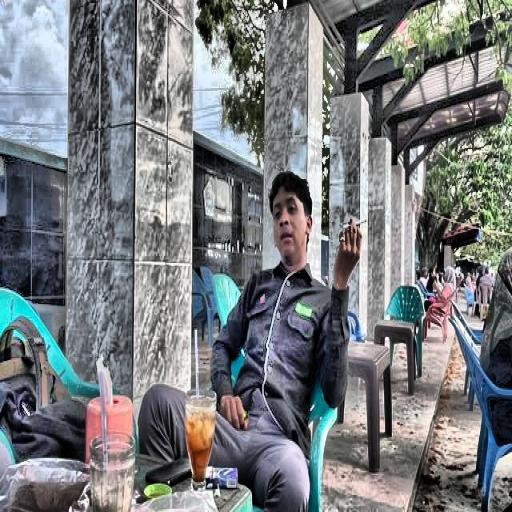Asbak: (354, 219, 367, 226)
